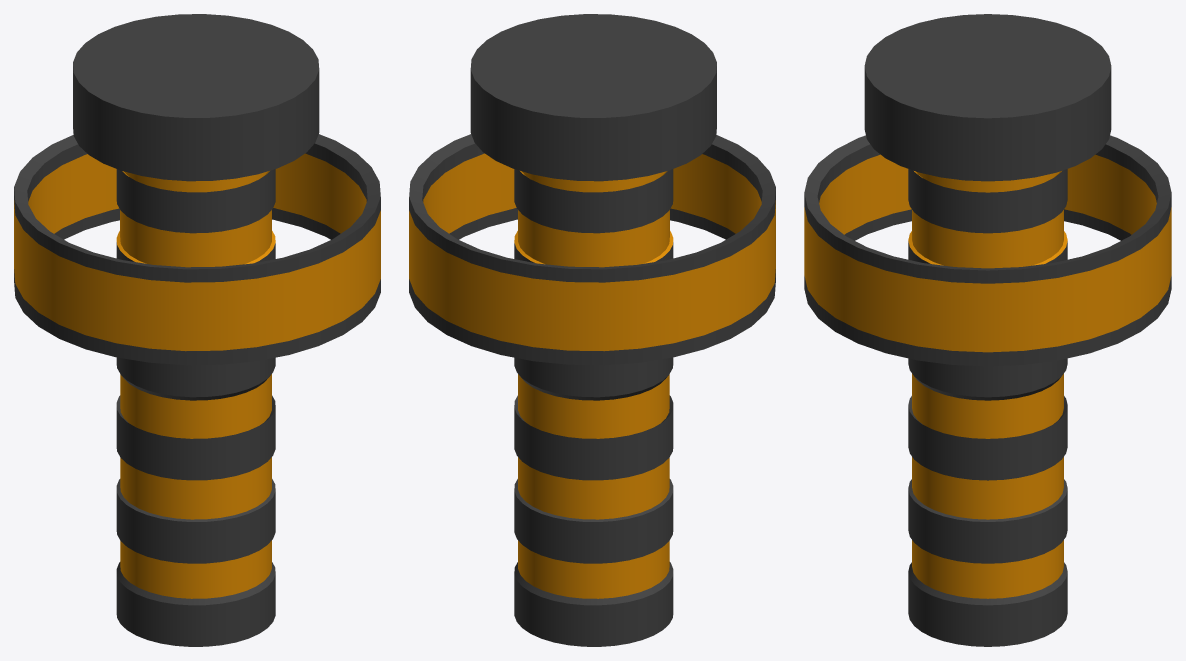
File: CylinderBuilding.fbx
3 views of the same model, side by side, from view 1: azimuth 30°, elevation 25°; view 2: azimuth 150°, elevation 25°; view 3: azimuth 270°, elevation 25° (orthographic).
Visible parts, largest first — view 1: Cylinder; view 2: Cylinder; view 3: Cylinder.
Boxes of the visible parts, bbox=[...] form: Cylinder: bbox=[14, 14, 380, 646]; Cylinder: bbox=[409, 14, 775, 646]; Cylinder: bbox=[804, 14, 1171, 646].
Size of the model in its own units: 6.45 by 6.45 by 10.6.
